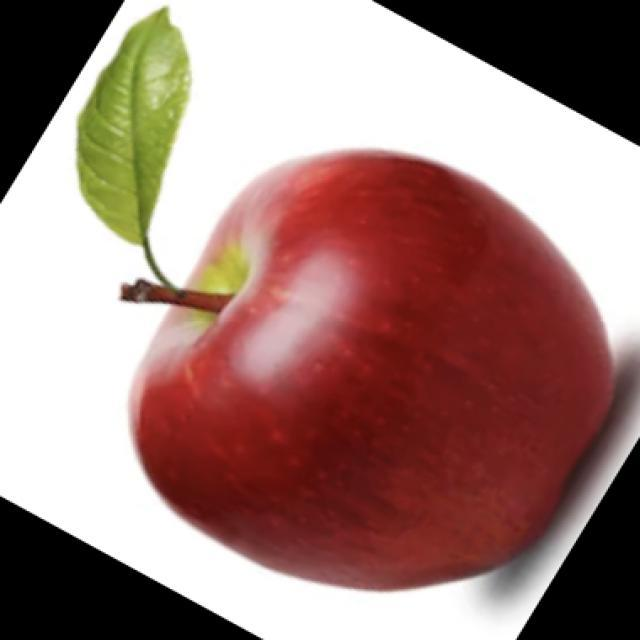Fresh Apple: (129, 138, 619, 596)
